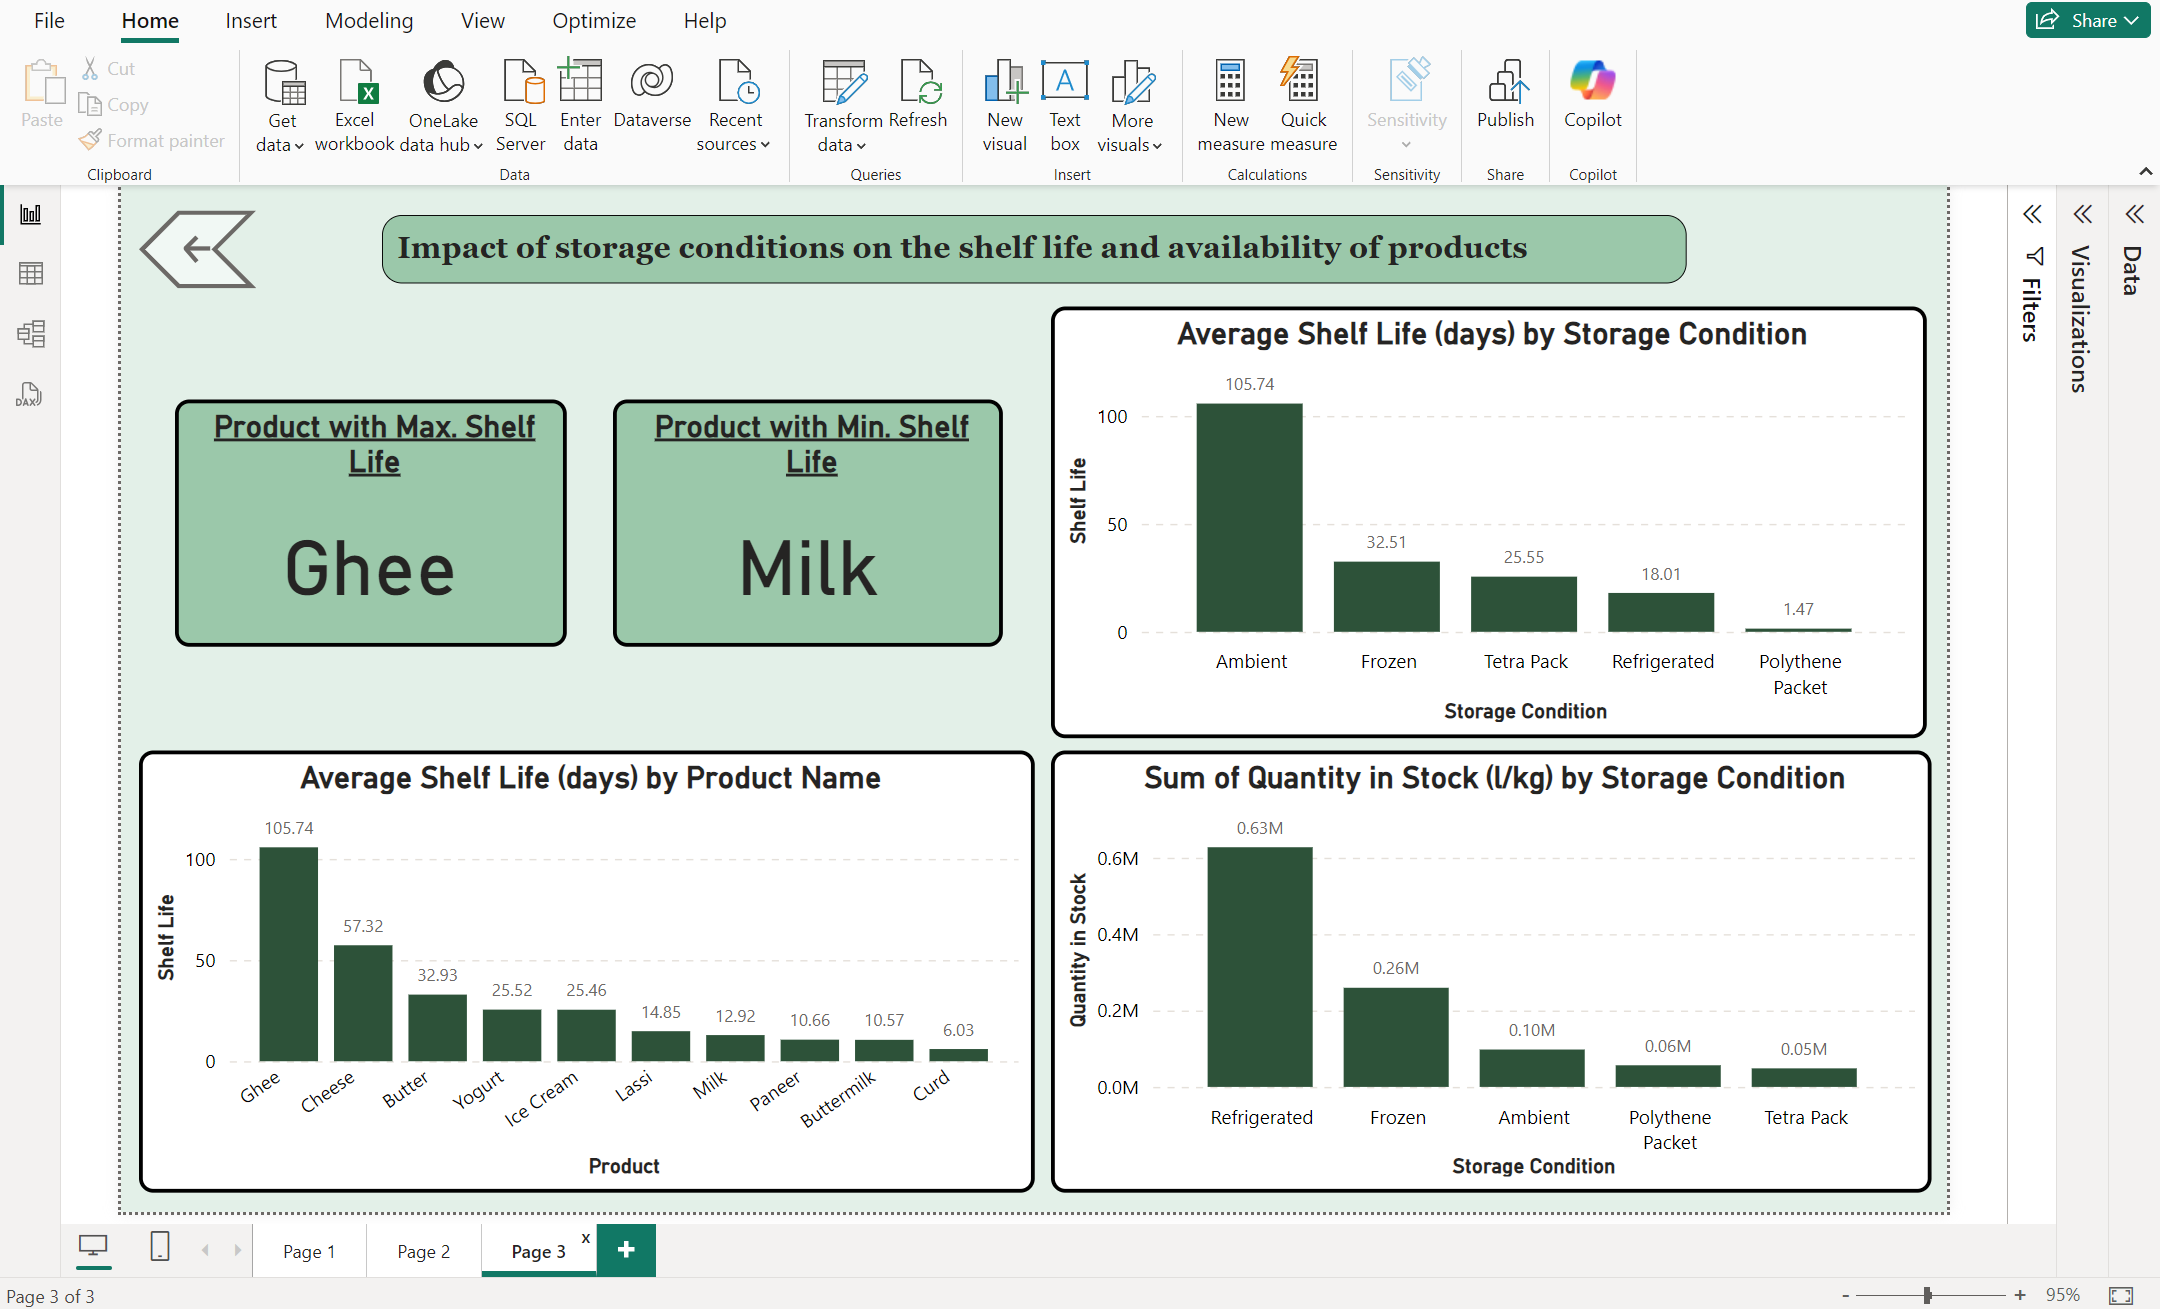

The dashboard page shown, as its layout file describes it:
{"tool":"powerbi","page":{"name":"Page 3","canvas":[1280,720],"ordinal":2},"visuals":[{"type":"columnChart","title":"Average Shelf Life (days) by Storage Condition","fields":{"Category":["dairy_data.Storage Condition"],"Y":["Avg(dairy_data.Shelf Life (days))"]},"box":[651.5,85.6,613.7,302.4],"z":0},{"type":"columnChart","title":"Sum of Quantity in Stock (l/kg) by Storage Condition","fields":{"Category":["dairy_data.Storage Condition"],"Y":["Sum(dairy_data.Quantity in Stock (liters/kg))"]},"box":[651.5,396.9,617,310.2],"z":1000},{"type":"columnChart","title":"Average Shelf Life (days) by Product Name","fields":{"Category":["dairy_data.Product Name"],"Y":["Avg(dairy_data.Shelf Life (days))"]},"box":[12.2,396.9,628.1,310.2],"z":2000},{"type":"textbox","box":[183.4,21.1,915,47.8],"z":3000},{"type":"card","title":"Product with Max. Shelf Life","fields":{"Values":["dairy_data.ProductsWithMaxShelfLife"]},"box":[37.8,150.1,274.6,173.4],"z":4000},{"type":"card","title":"Product with Min. Shelf Life","fields":{"Values":["dairy_data.ProductWithMinShelfLife"]},"box":[344.6,150.1,273.5,173.4],"z":5000},{"type":"actionButton","box":[12.2,17.8,82.3,54.5],"z":7001}]}

Visuals, with their boxes on the page's 1280x720 design canvas (x1, y1, x2, y2). These are canvas units, not pixel positions in the 2160x1309 screenshot, which may show the page scaled, cropped or inside an application window:
"Average Shelf Life (days) by Storage Condition" columnChart: bbox(652, 86, 1265, 388)
"Sum of Quantity in Stock (l/kg) by Storage Condition" columnChart: bbox(652, 397, 1268, 707)
"Average Shelf Life (days) by Product Name" columnChart: bbox(12, 397, 640, 707)
textbox: bbox(183, 21, 1098, 69)
"Product with Max. Shelf Life" card: bbox(38, 150, 312, 324)
"Product with Min. Shelf Life" card: bbox(345, 150, 618, 324)
actionButton: bbox(12, 18, 94, 72)
